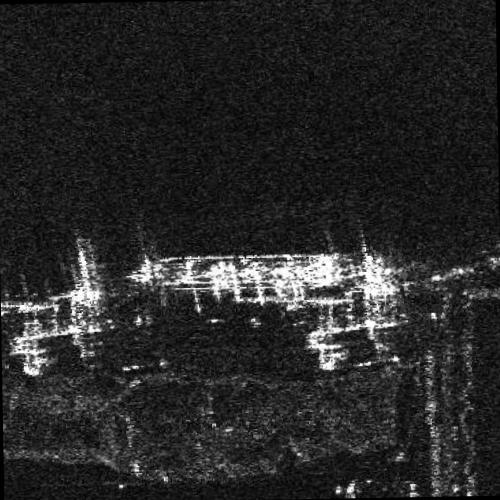ship: (128, 252, 367, 294)
